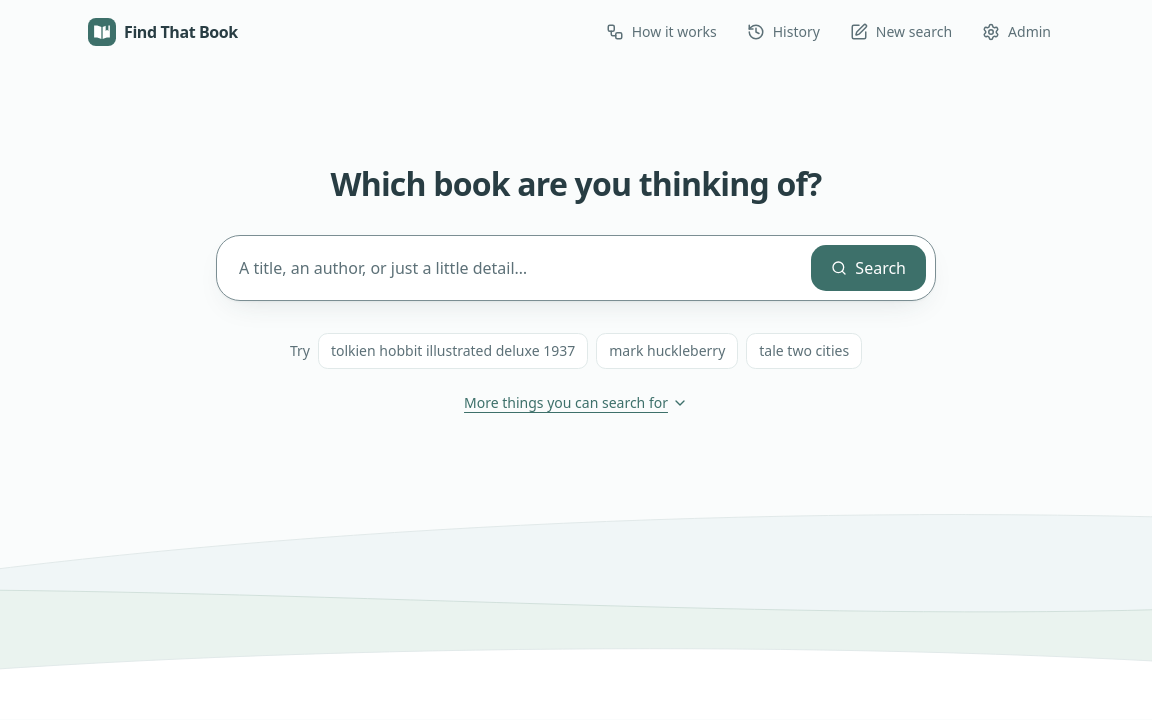
Scenario: search button › becomes Stop while a search runs; Stop cancels it without starting another search
Type "tolkien hobbit" into the dropdown named "Describe the book" at (518, 268), box x1=233 y1=244 x2=802 y2=292
Then press Enter
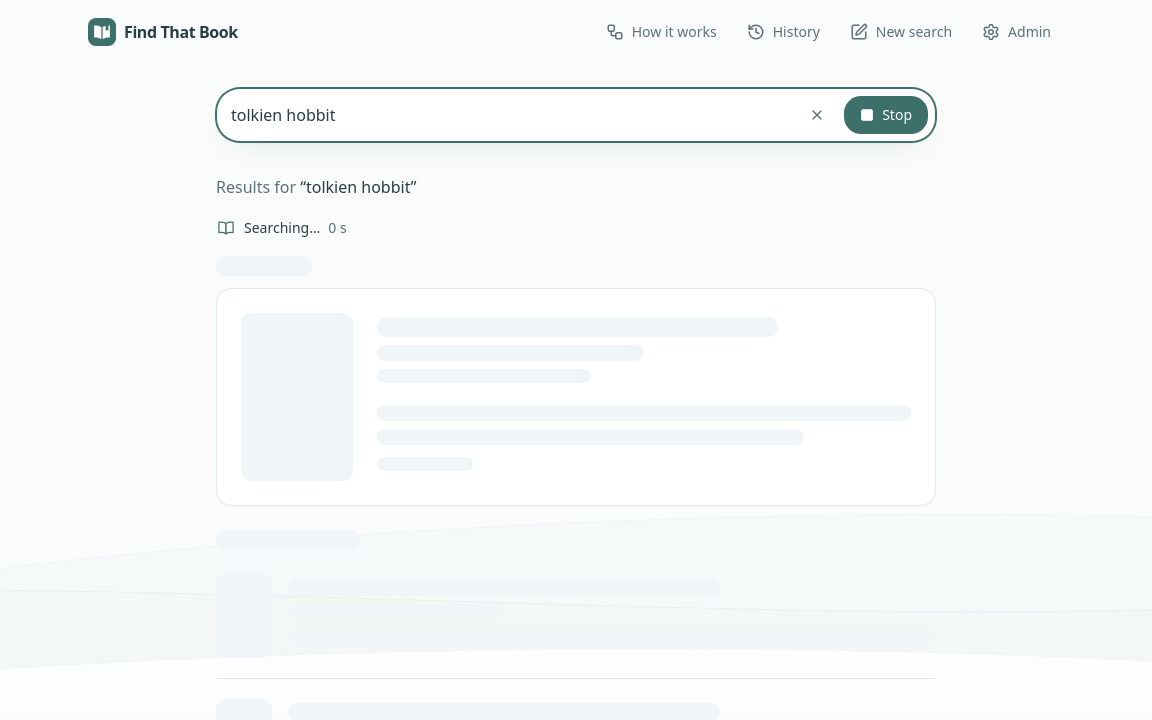
Click the button "Stop" at (886, 115), box x1=843 y1=95 x2=929 y2=135
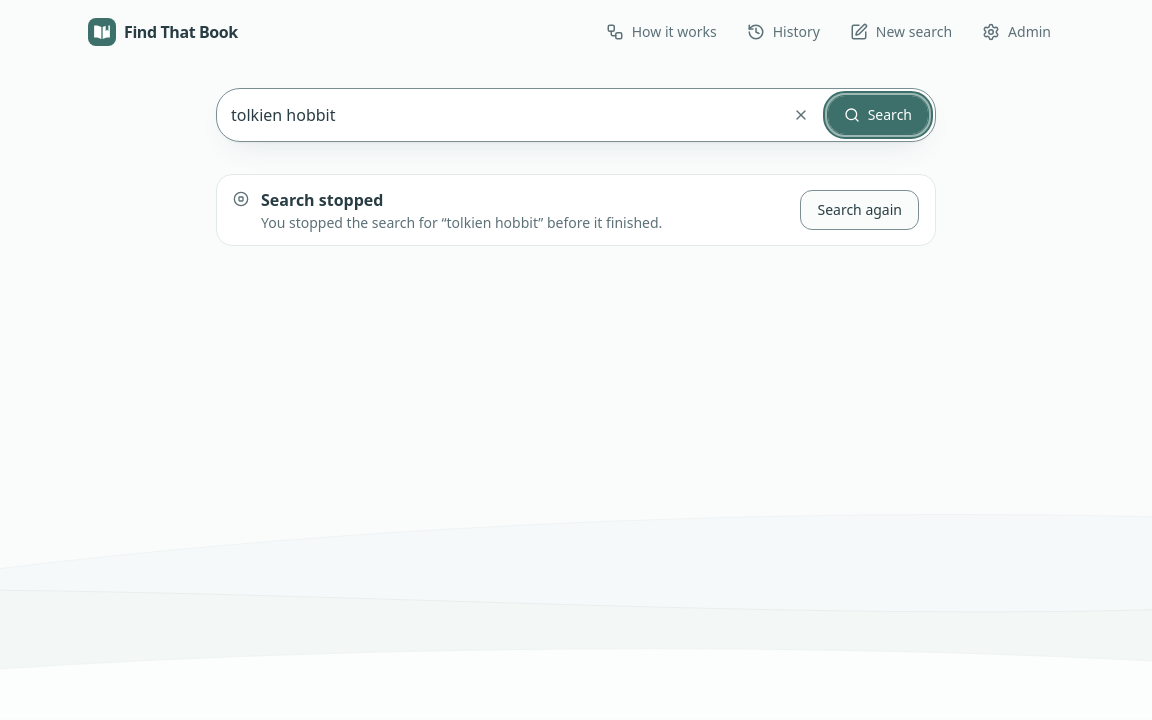
Expected: the button "Search" is shown, x1=827 y1=95 x2=929 y2=135
